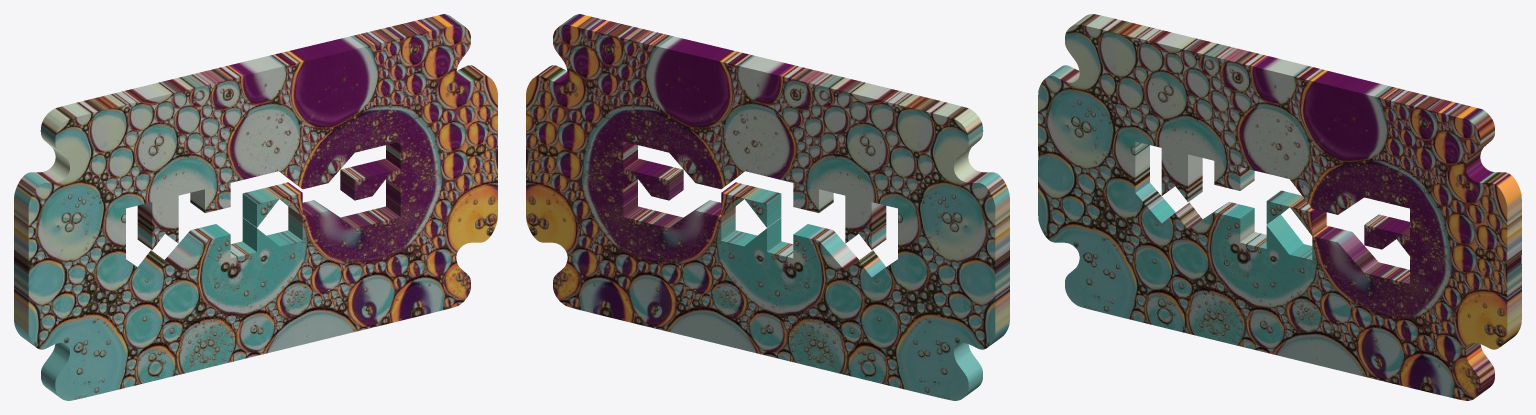
The model's file is bubbles.glb.
The picture shows the model from 3 angles, left to right: view 1: azimuth 30°, elevation 25°; view 2: azimuth 150°, elevation 25°; view 3: azimuth 330°, elevation 25°; orthographic projection.
Parts seen in each view (by area): view 1: Razor; view 2: Razor; view 3: Razor.
Part boxes in pixels (bbox=[...]): Razor: bbox=[14, 14, 497, 400]; Razor: bbox=[526, 14, 1009, 400]; Razor: bbox=[1038, 14, 1521, 400].
Size of the model in its own units: 0.5609 by 0.3234 by 0.03.
1 material, 1 textured.
